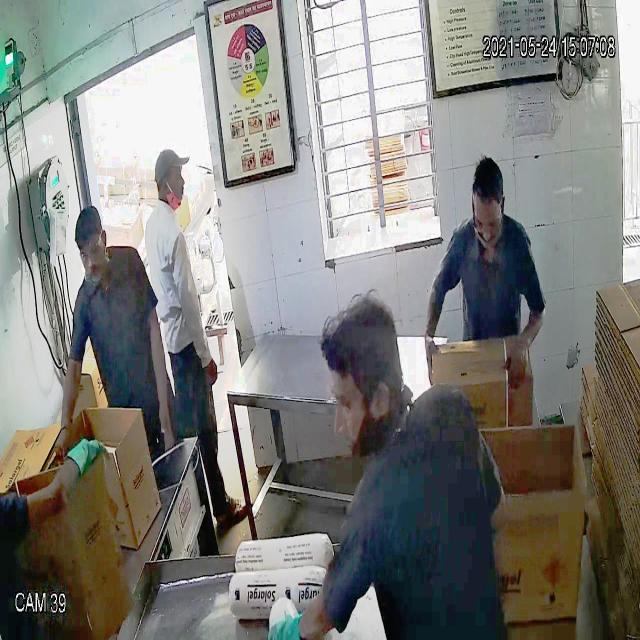glasses: (472, 202, 506, 238), (74, 234, 106, 266)
